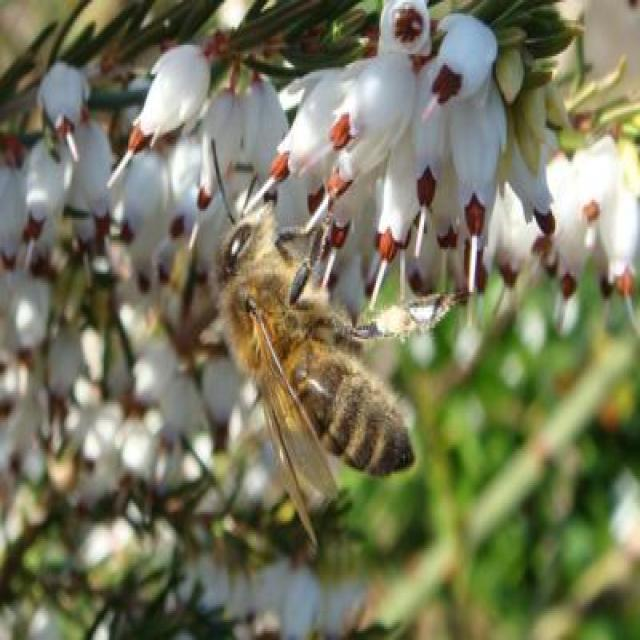antennae: (210, 140, 236, 220), (239, 174, 259, 223)
body: (219, 202, 413, 475)
insect: (208, 137, 470, 546)
legs: (310, 284, 466, 346), (286, 224, 332, 314), (274, 203, 317, 265)
wings: (249, 299, 343, 498), (247, 330, 317, 544)
